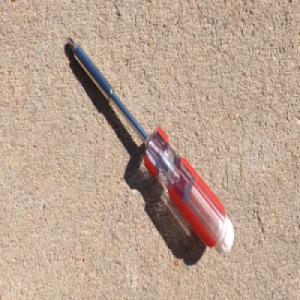Screwdriver: (64, 34, 235, 258)
